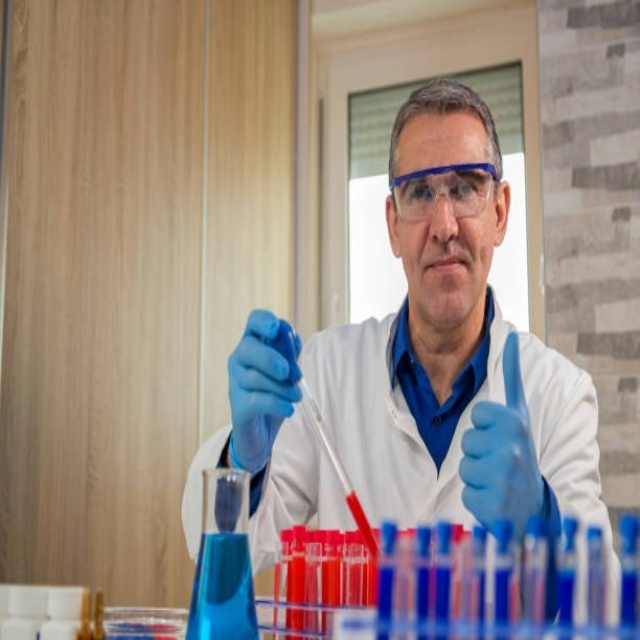Gafas: (392, 166, 498, 219)
Guantes: (460, 337, 548, 541), (227, 307, 302, 473)
Sin_mascara: (416, 242, 474, 307)
